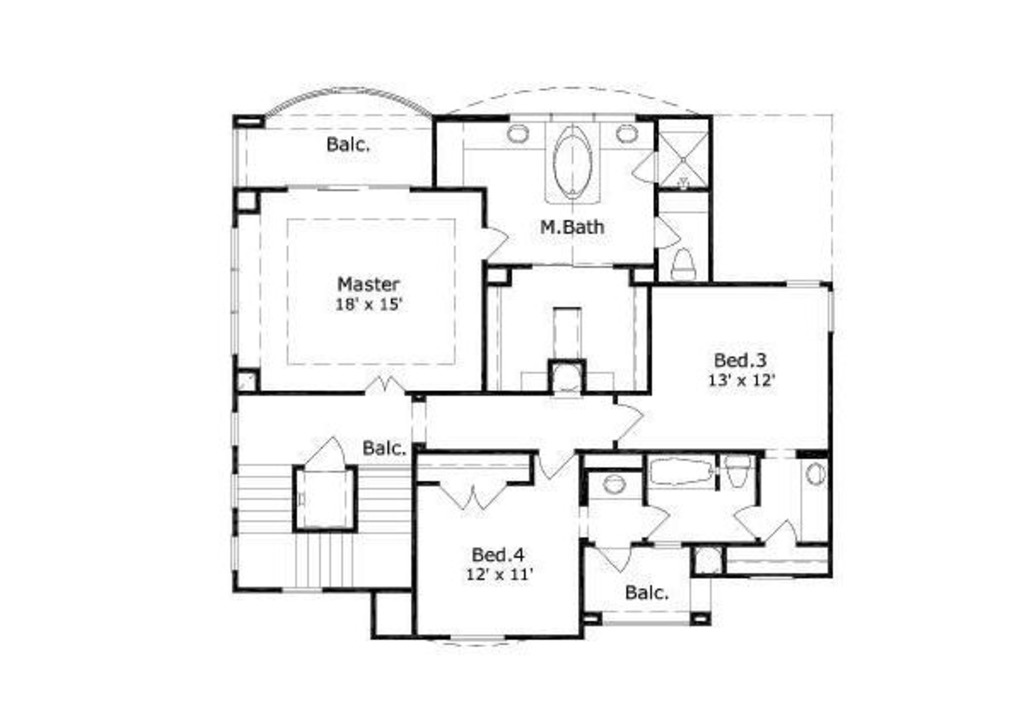door: (440, 482, 514, 513), (592, 542, 631, 577), (299, 435, 343, 466), (616, 402, 646, 444), (533, 450, 572, 480), (641, 502, 671, 538), (762, 517, 798, 547), (652, 214, 683, 247), (732, 502, 759, 538), (483, 225, 510, 260), (362, 374, 405, 395)
large_sink: (662, 246, 703, 283), (722, 449, 751, 491)
small_sink: (802, 457, 828, 544), (467, 121, 542, 151), (586, 468, 642, 502), (601, 120, 656, 150)
stairs: (237, 464, 411, 592)
tub: (540, 120, 601, 206), (646, 455, 719, 495)
windows: (226, 223, 243, 357), (781, 275, 822, 294), (447, 631, 505, 641), (228, 411, 243, 448), (225, 476, 240, 506)
